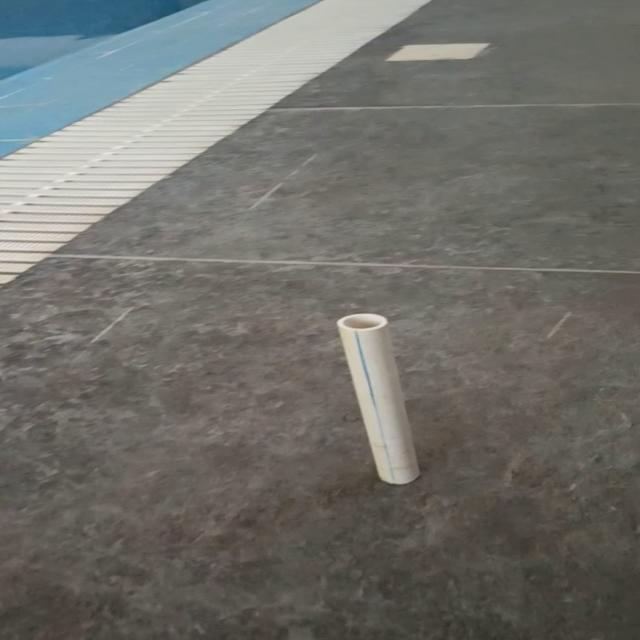Cube: (334, 312, 420, 485)
